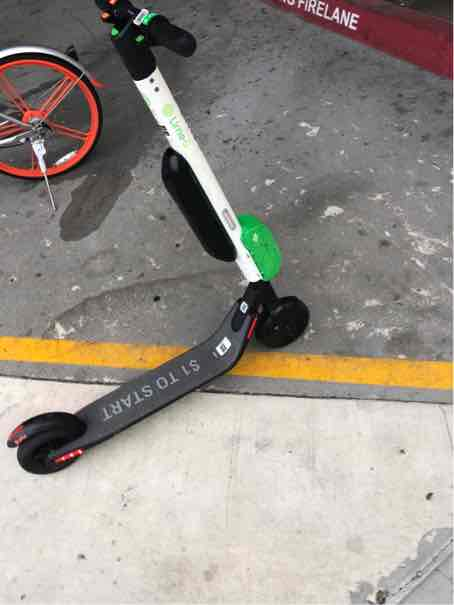scooter: (7, 0, 313, 476)
